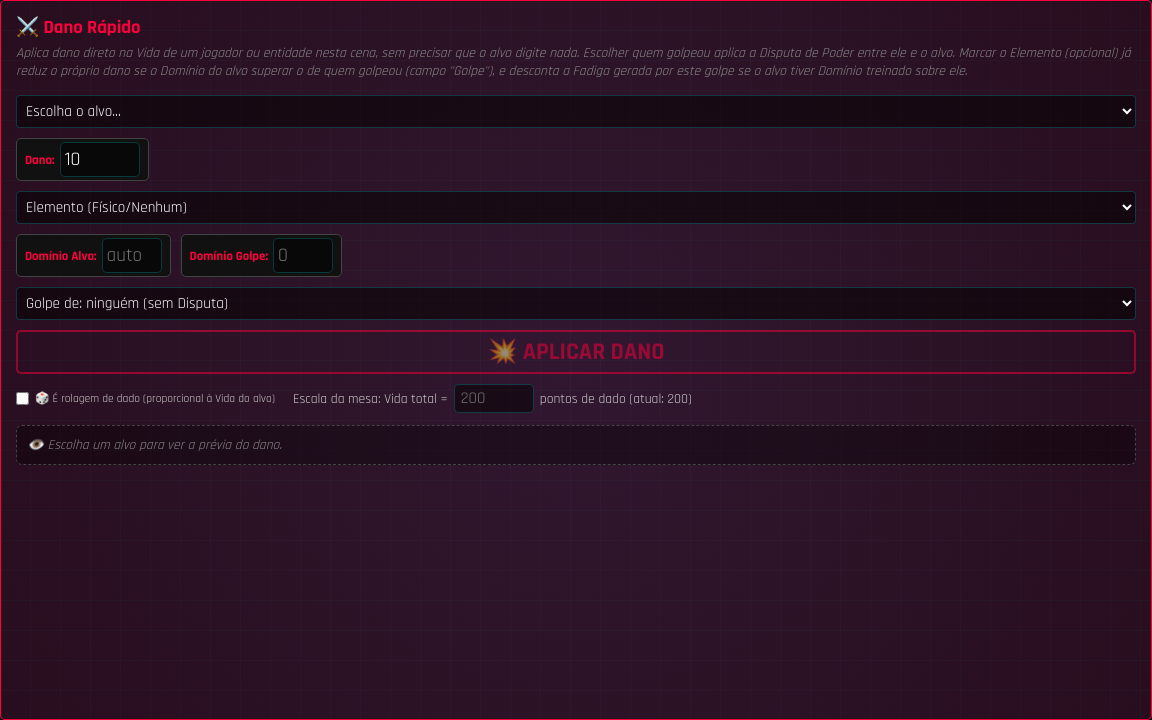
Scenario: PreviaDanoRapido (Dano Rápido do Mestre) › dano maior que a Vida mostra Vida em 0 e o aviso de queda
Select "🤖 Goblin" in the 1st dropdown at {"x": 576, "y": 112}, box [16,95,1136,128]
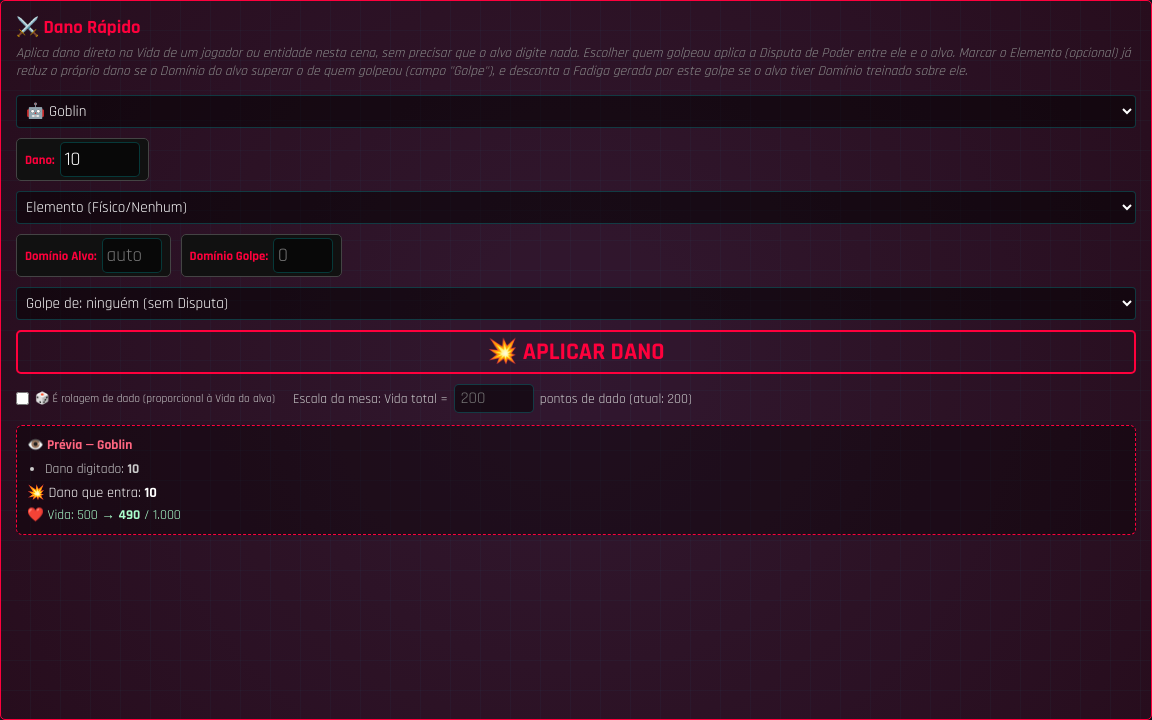
Replace the text in the number field showing "10" with "900" at {"x": 100, "y": 160}, box [60,142,140,177]
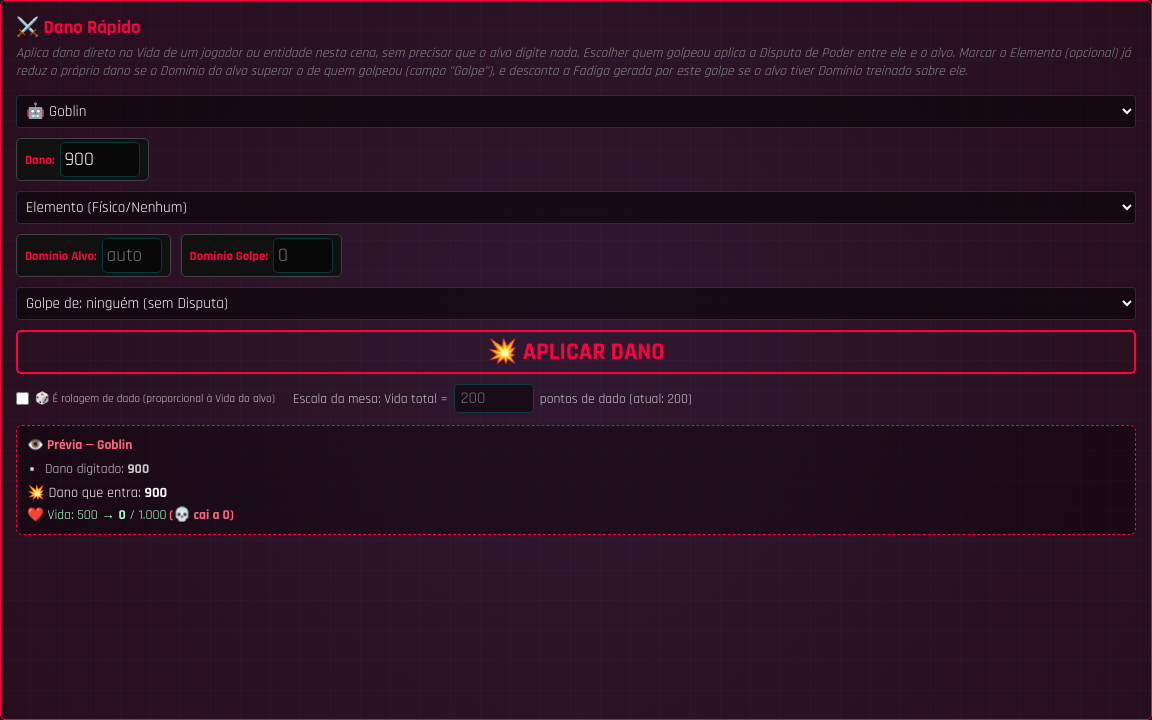
Expected: the element with class "dano-previa-vida" shows "500 → 0 / 1.000", [27,506,234,524]
Expected: the element with class "dano-previa-vida" shows "cai a 0", [166,506,234,524]
